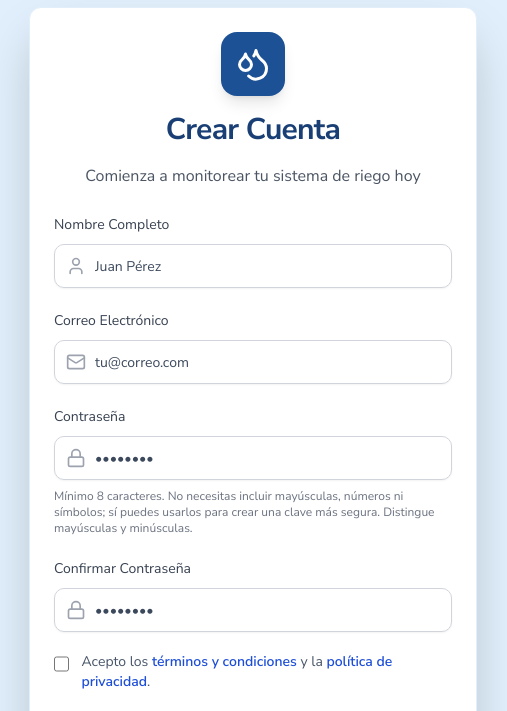
Signup page module › requires accepting the terms before creating the account
Type "Test User" into the field labelled "Nombre Completo".
click(253, 266); type("Test User")  # box [54,244,452,288]
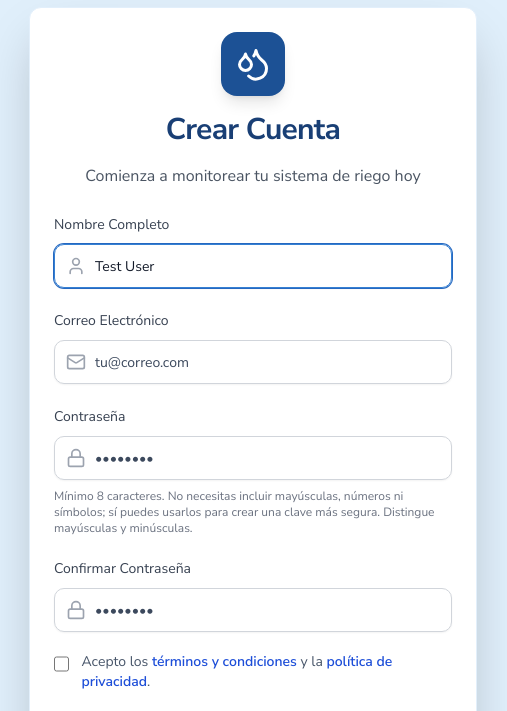
Type "valid@example.com" into the field labelled "Correo Electrónico".
click(253, 362); type("valid@example.com")  # box [54,340,452,384]
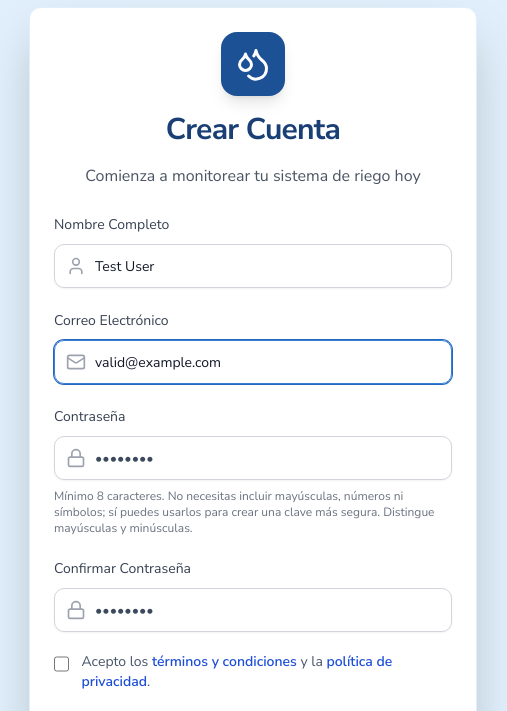
Type "12345678" into the password field labelled "Contraseña".
click(253, 458); type("12345678")  # box [54,436,452,480]
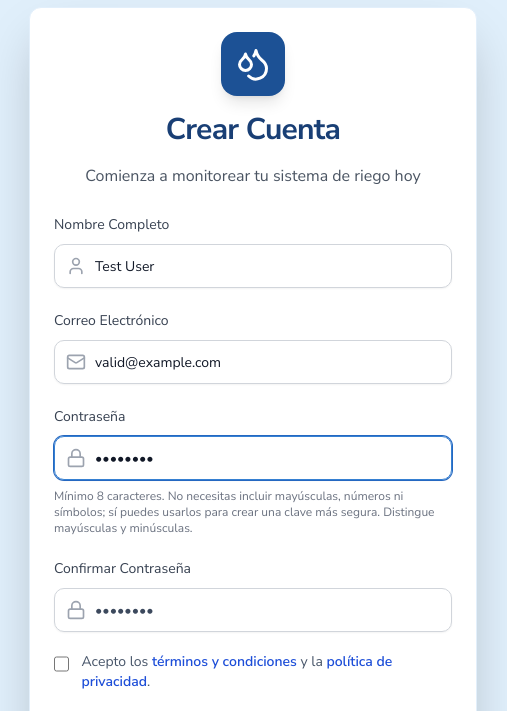
Type "12345678" into the password field labelled "Confirmar Contraseña".
click(253, 610); type("12345678")  # box [54,588,452,632]
(page scrolled)
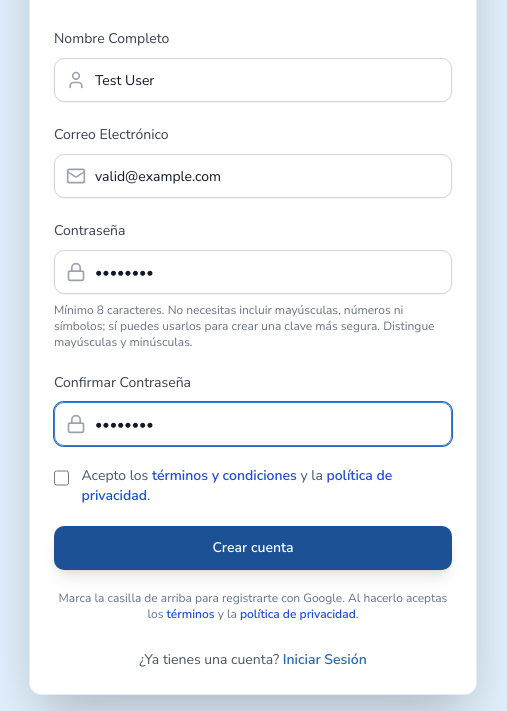
Click the button "Crear cuenta".
click(253, 548)  # box [54,526,452,570]
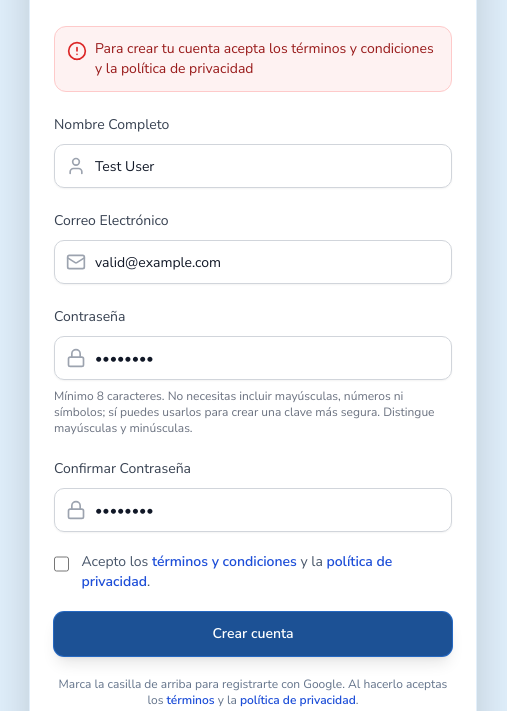
expect the text "acepta los términos y condiciones" is shown: met, box [95,39,434,78]
